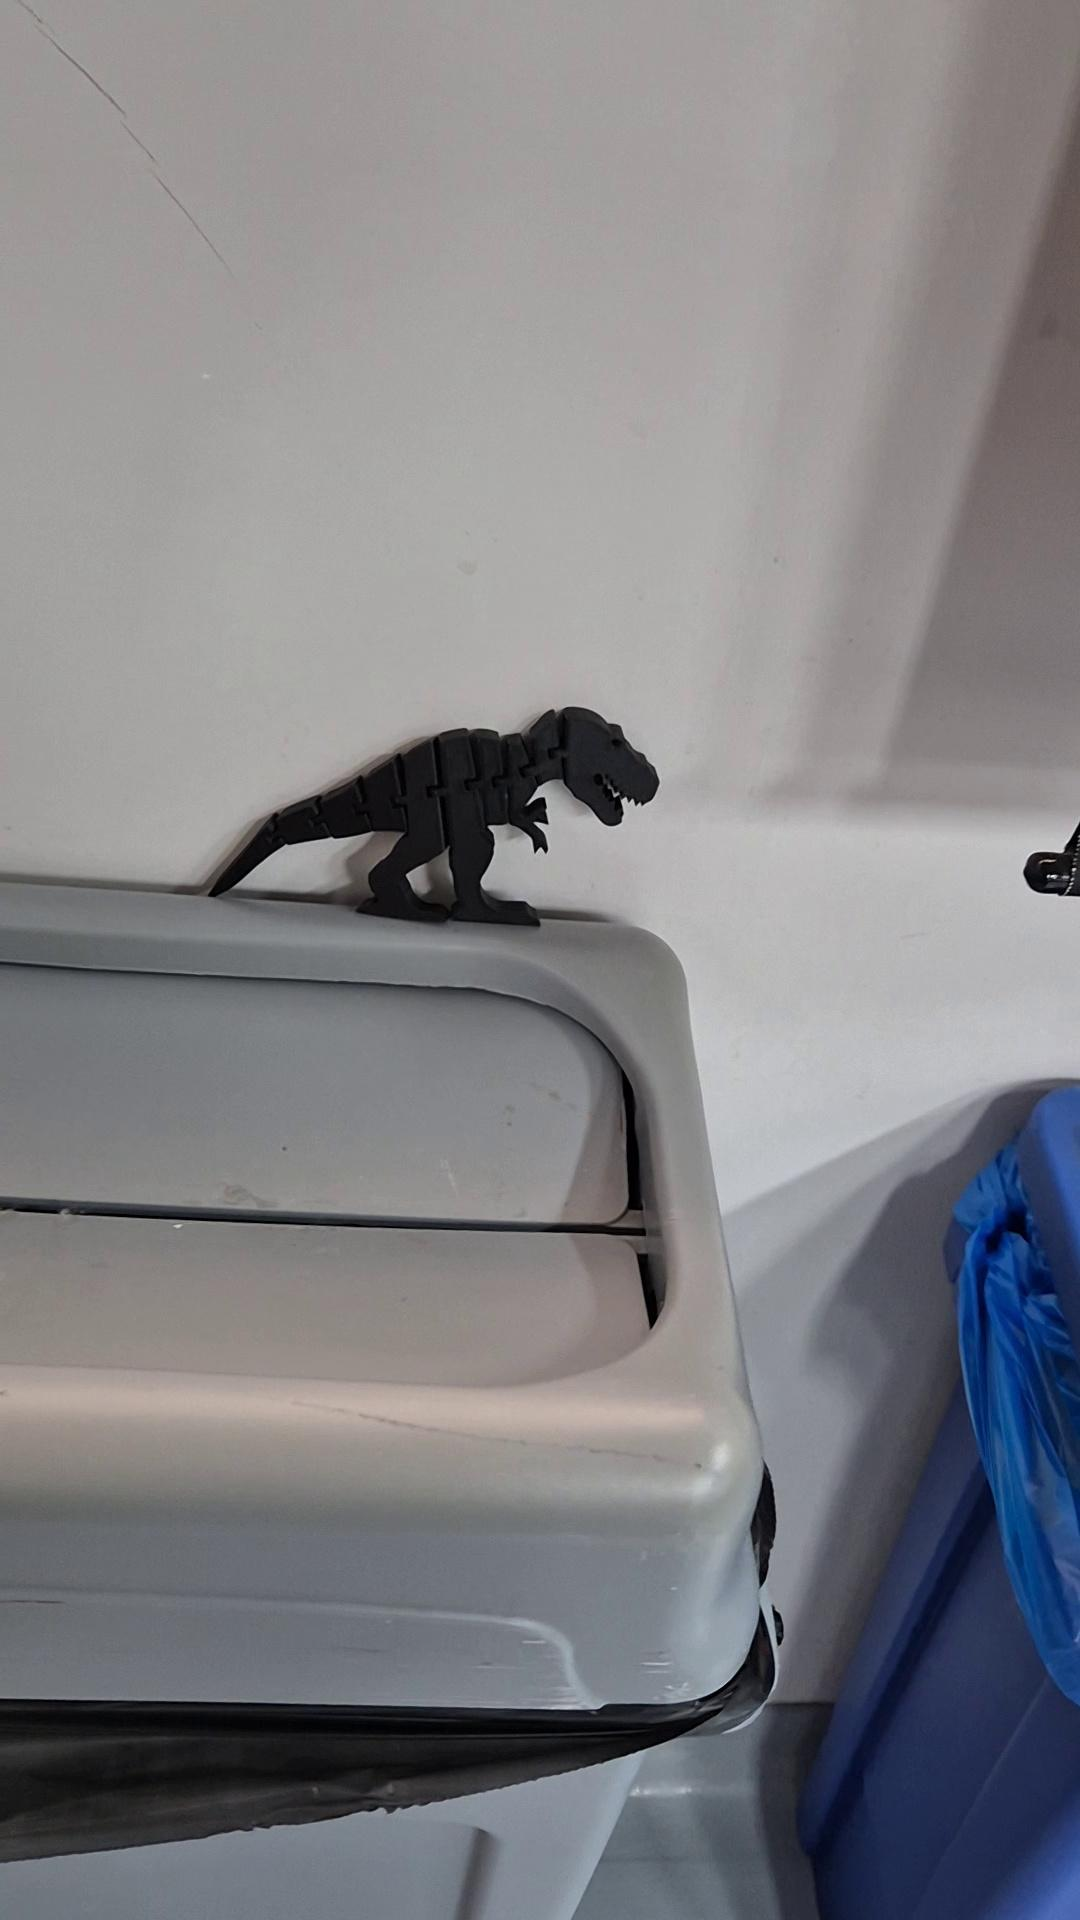dinosaur: (206, 704, 661, 928)
